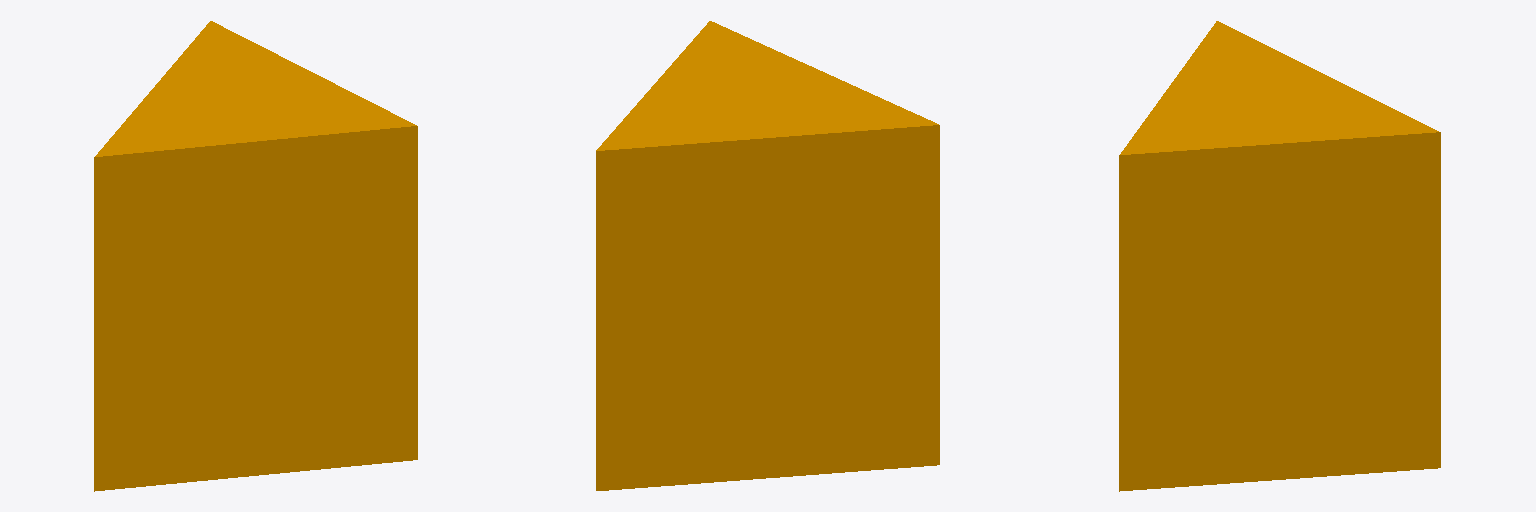
robot.urdf — object:
<?xml version="1.0"?>
<robot name="object">
  <link name="object">
    <visual>
      <origin xyz="0 0 0"/>
      <geometry>
        <mesh filename="meshes/generated/col_053.obj" scale="0.03 0.03 0.03"/>
      </geometry>
    </visual>
    <collision>
      <origin xyz="0 0 0"/>
      <geometry>
        <mesh filename="meshes/generated/col_053.obj" scale="0.03 0.03 0.03"/>
      </geometry>
    </collision>
    <inertial>
      <density value="1000.0"/>
    </inertial>
  </link>
</robot>

--- What the picture shows (computed from the rendered views, not written in the file) ---
The picture shows the robot from 3 angles, left to right: view 1: azimuth 30°, elevation 25°; view 2: azimuth 150°, elevation 25°; view 3: azimuth 270°, elevation 25°; orthographic projection.
Robot: object — 1 links, 0 joints (none); root link object; default pose: every joint at zero.
Links seen in each view (by area): view 1: object; view 2: object; view 3: object.
Boxes of the visible links, x1,y1,x2,y2 form: object: (94,21,417,491); object: (596,21,939,490); object: (1119,21,1440,491).
Size in the robot's own frame: 0.0516 by 0.052 by 0.06 metres.
1 mesh visuals loaded from 1 distinct referenced files (1 OBJ).
